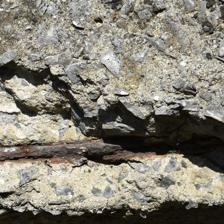Crack: (8, 63, 219, 156)
